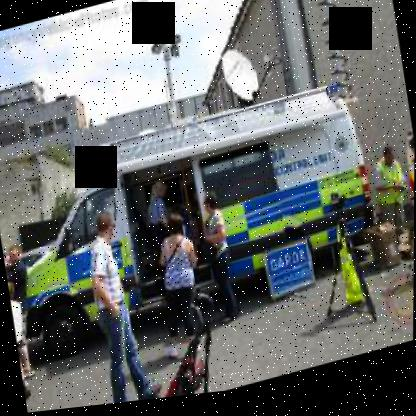emergency: (0, 55, 410, 368)
